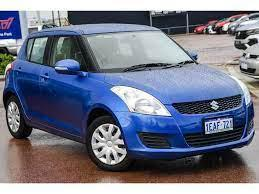Hatchback: (3, 21, 256, 170), (232, 20, 259, 50), (237, 42, 259, 75)
